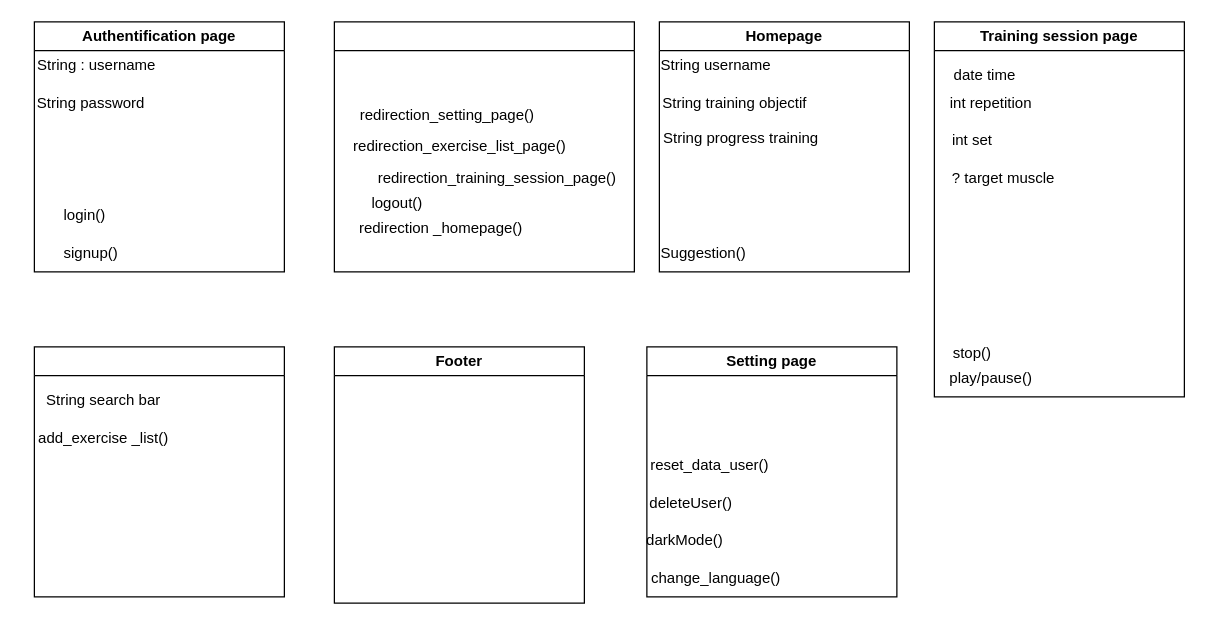
Some shapes in this 1206 by 625 pixel diagram are drawn without their labels. The shapes that lost their labels are listed below. From the top down, each one's box as (x1, y1, x2, y2) in pixels, then its label:
(333, 21, 634, 272): Header
(33, 346, 284, 597): Exercise list page
